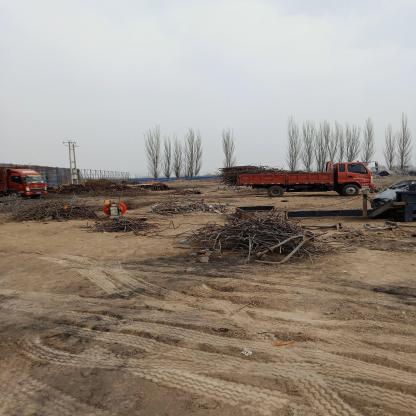rebar: (180, 216, 337, 255)
